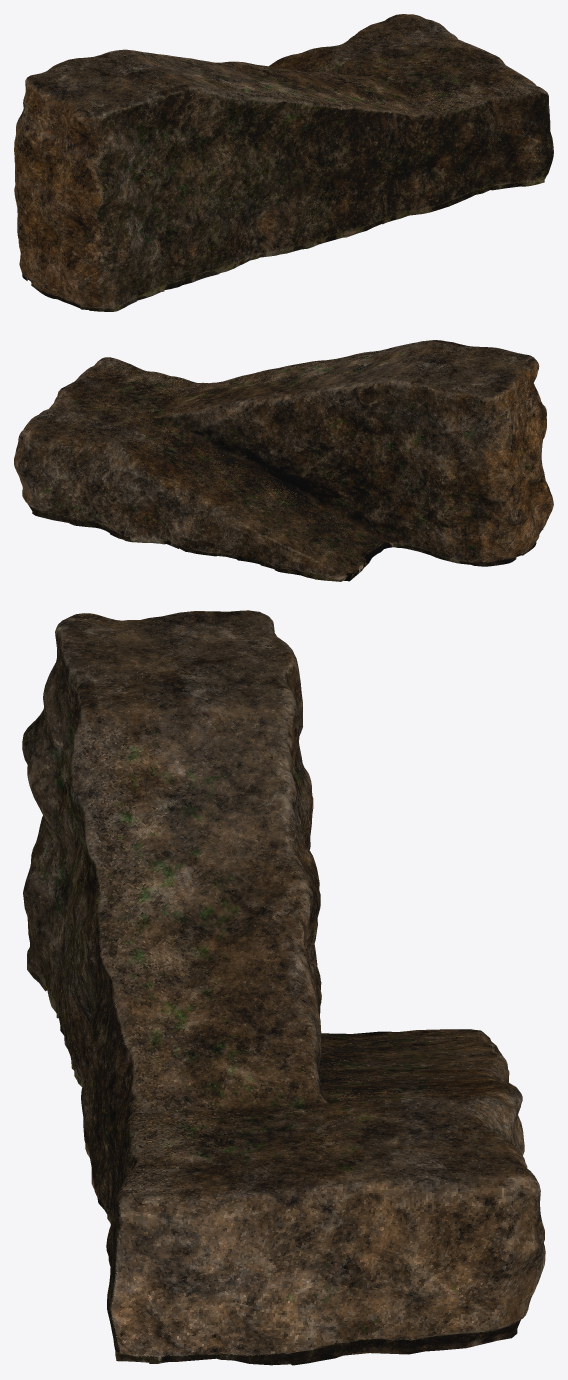
The model's file is SM_TI_Ramp_0.gltf.
The picture shows the model from 3 angles, top to bottom: view 1: azimuth 30°, elevation 25°; view 2: azimuth 150°, elevation 25°; view 3: azimuth 270°, elevation 25°; orthographic projection. The views are drawn at different scales.
Parts seen in each view (by area): view 1: SM_TI_Ramp_0; view 2: SM_TI_Ramp_0; view 3: SM_TI_Ramp_0.
Boxes of the visible parts, x1,y1,x2,y2 form: SM_TI_Ramp_0: (14, 14, 553, 311); SM_TI_Ramp_0: (14, 340, 553, 581); SM_TI_Ramp_0: (22, 610, 545, 1365).
Bounding box in the file's own units: 44.93 × 16.3 × 22.62.
1 material, 1 textured.
